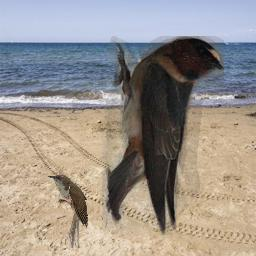Cuckoo: (47, 174, 88, 248)
Swallow: (102, 36, 224, 235)
